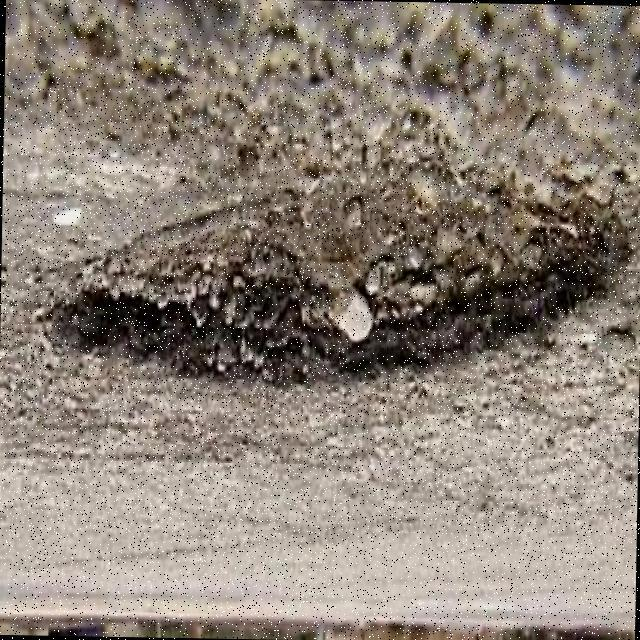Pothole: (41, 167, 631, 390)
